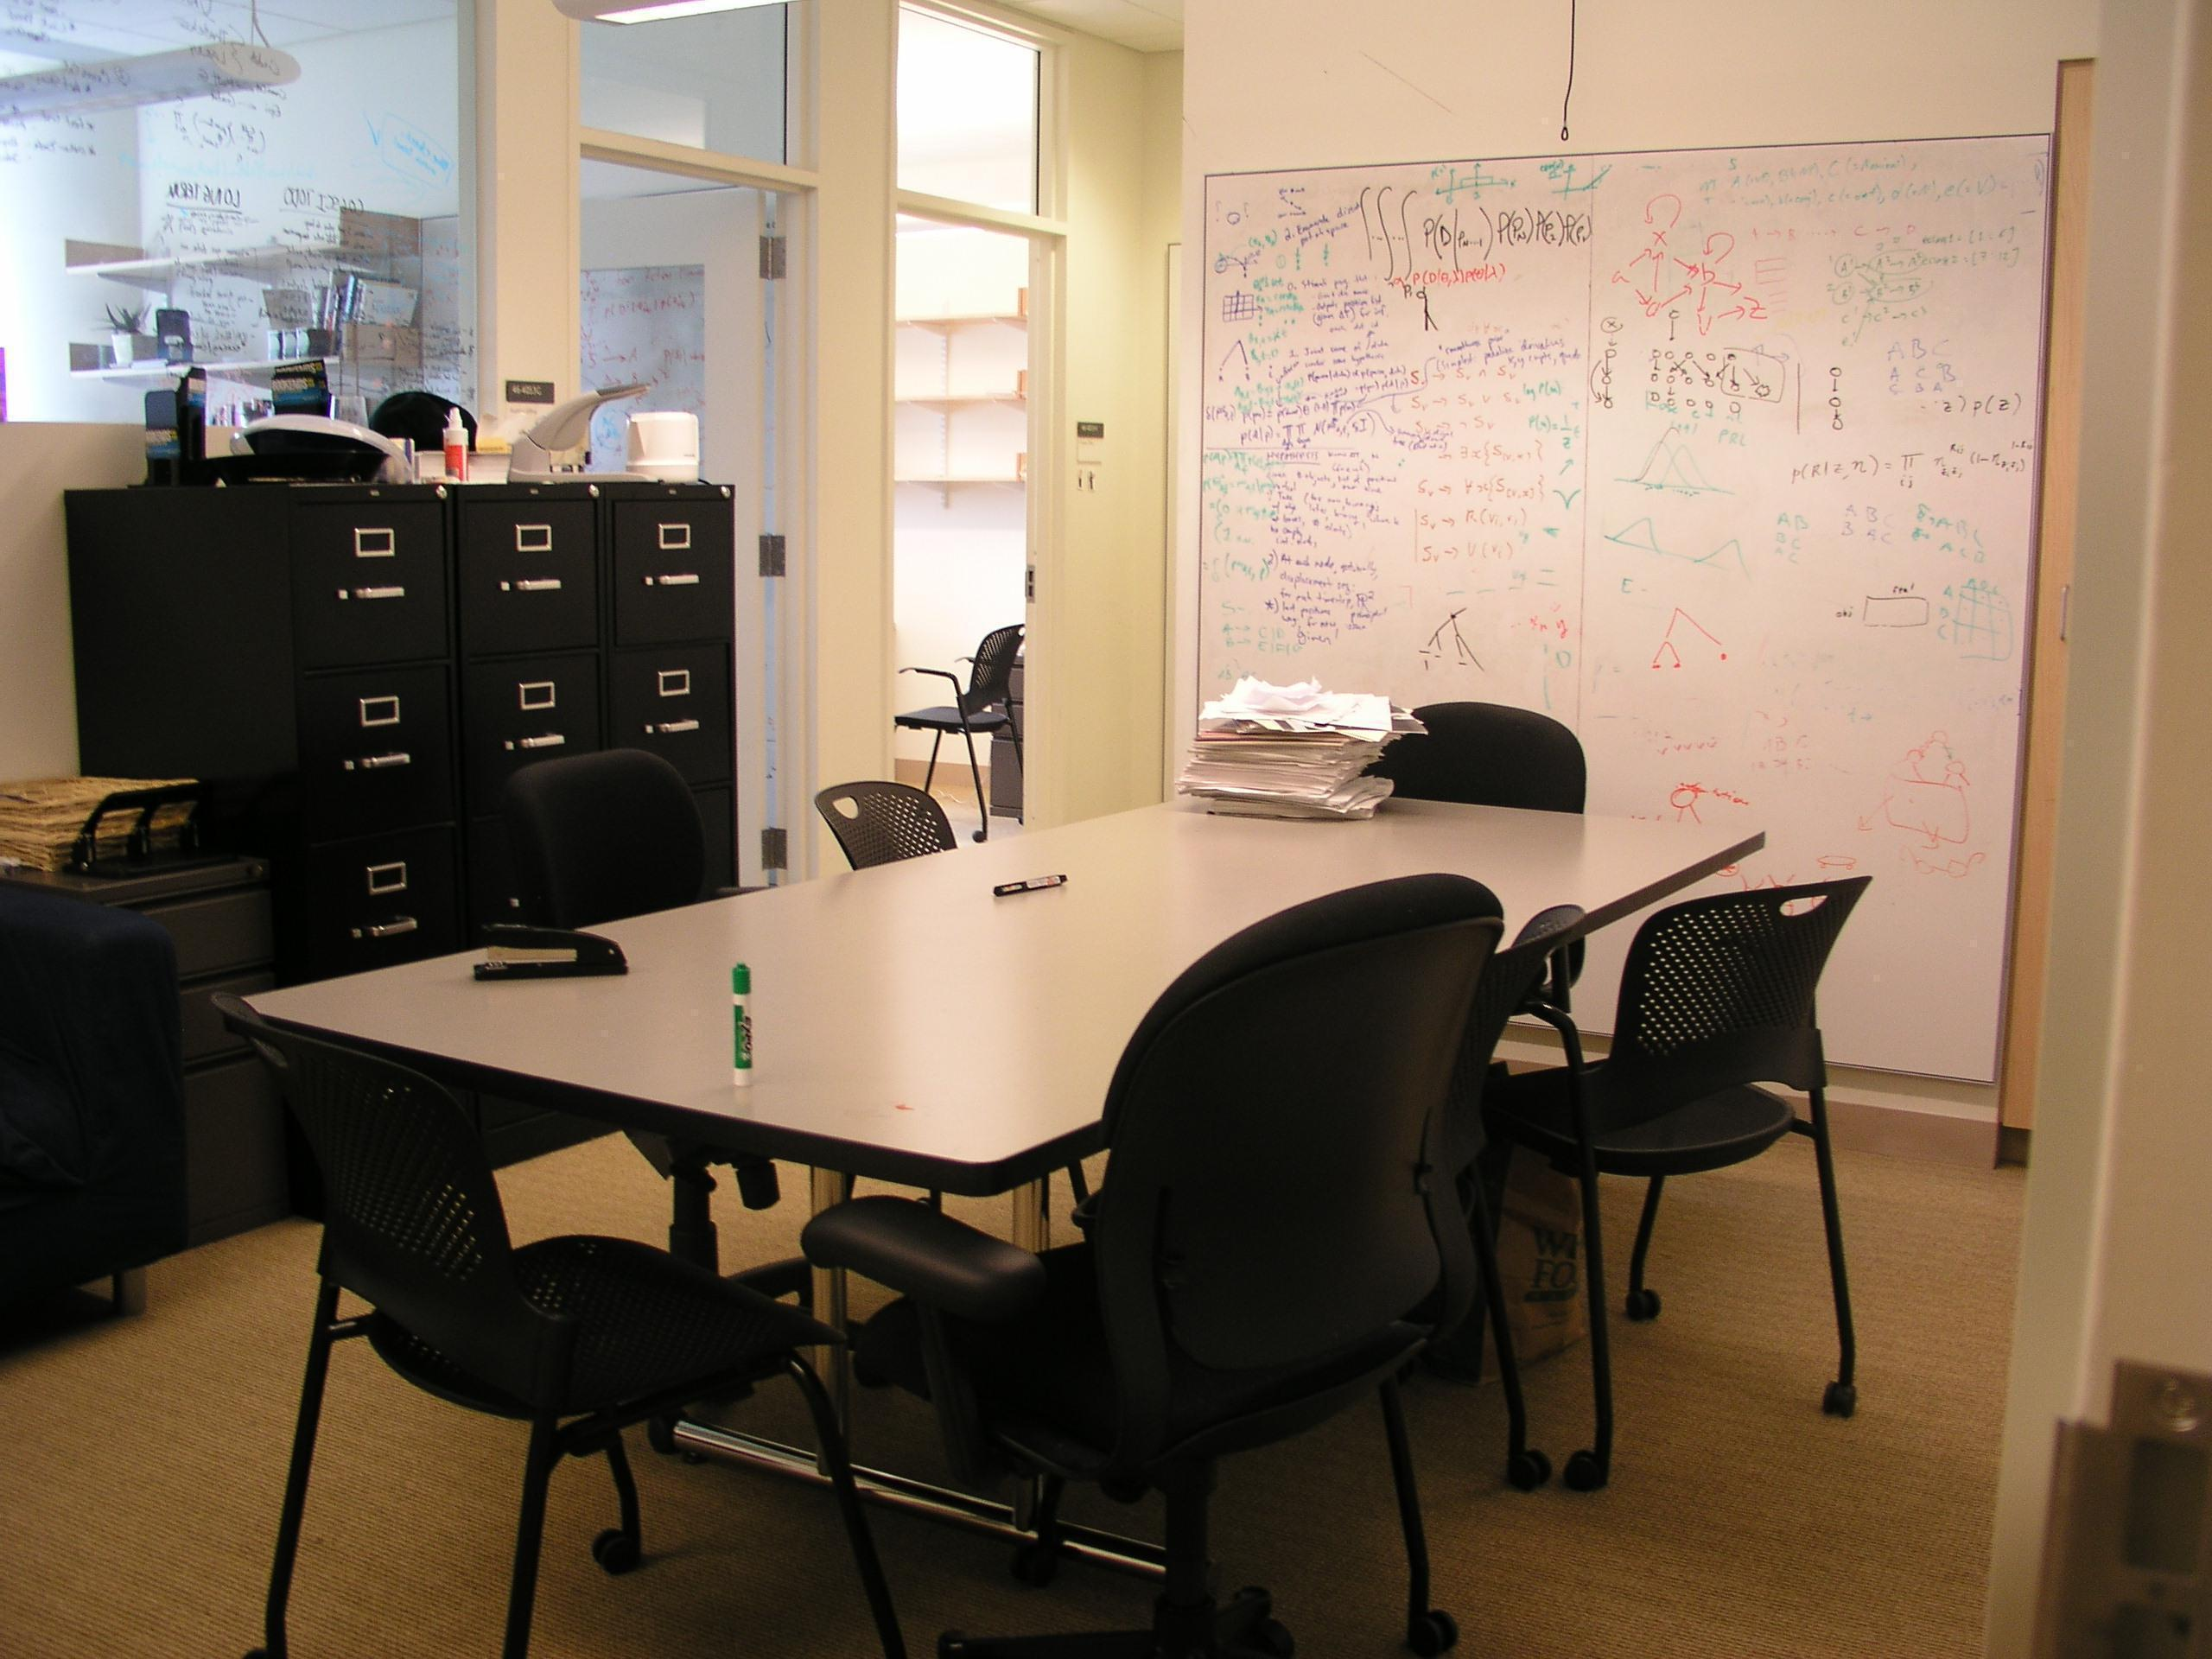Armario: (85, 495, 458, 1237), (451, 500, 611, 1145), (613, 505, 738, 1105)
